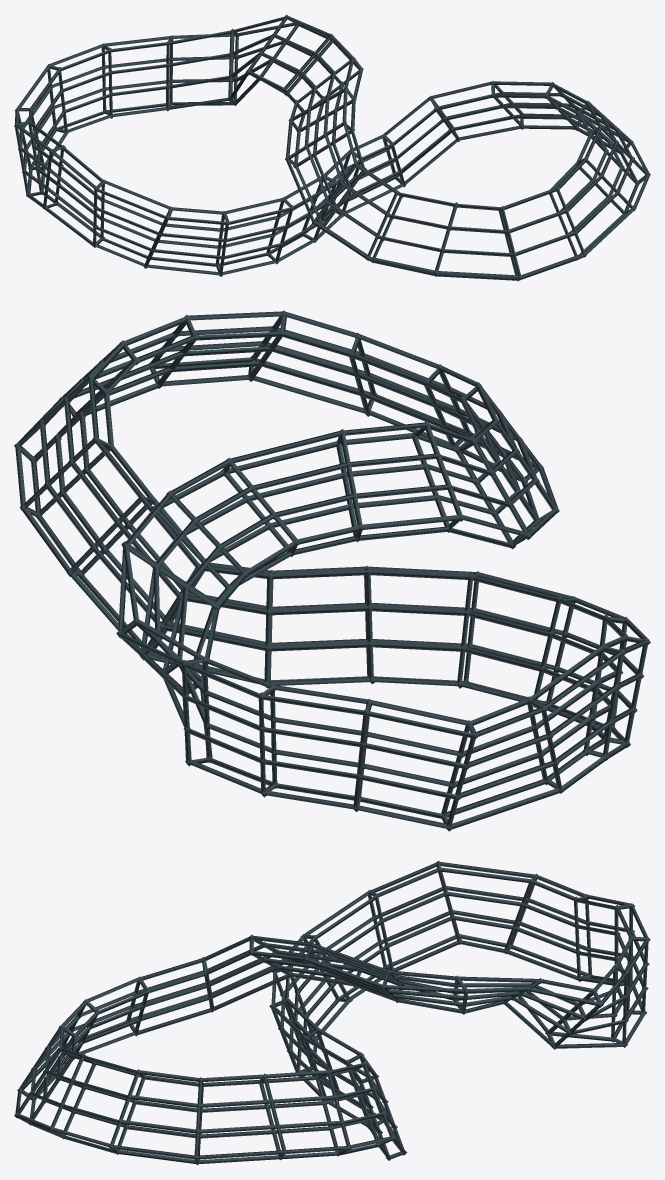
Rendered from mobiusDark.glb.
The picture shows the model from 3 angles, top to bottom: view 1: azimuth 30°, elevation 25°; view 2: azimuth 150°, elevation 25°; view 3: azimuth 270°, elevation 25°; orthographic projection. The views are drawn at different scales.
Visible parts, largest first — view 1: mobius; view 2: mobius; view 3: mobius.
Boxes of the visible parts, left/top/right/bottom form: mobius: left=14, top=14, right=650, bottom=281; mobius: left=14, top=310, right=650, bottom=831; mobius: left=14, top=860, right=650, bottom=1165.
Size of what is drawn, in the model's own units: 5.61 by 1.74 by 5.7.
Materials: 1 (1 with a texture image).
